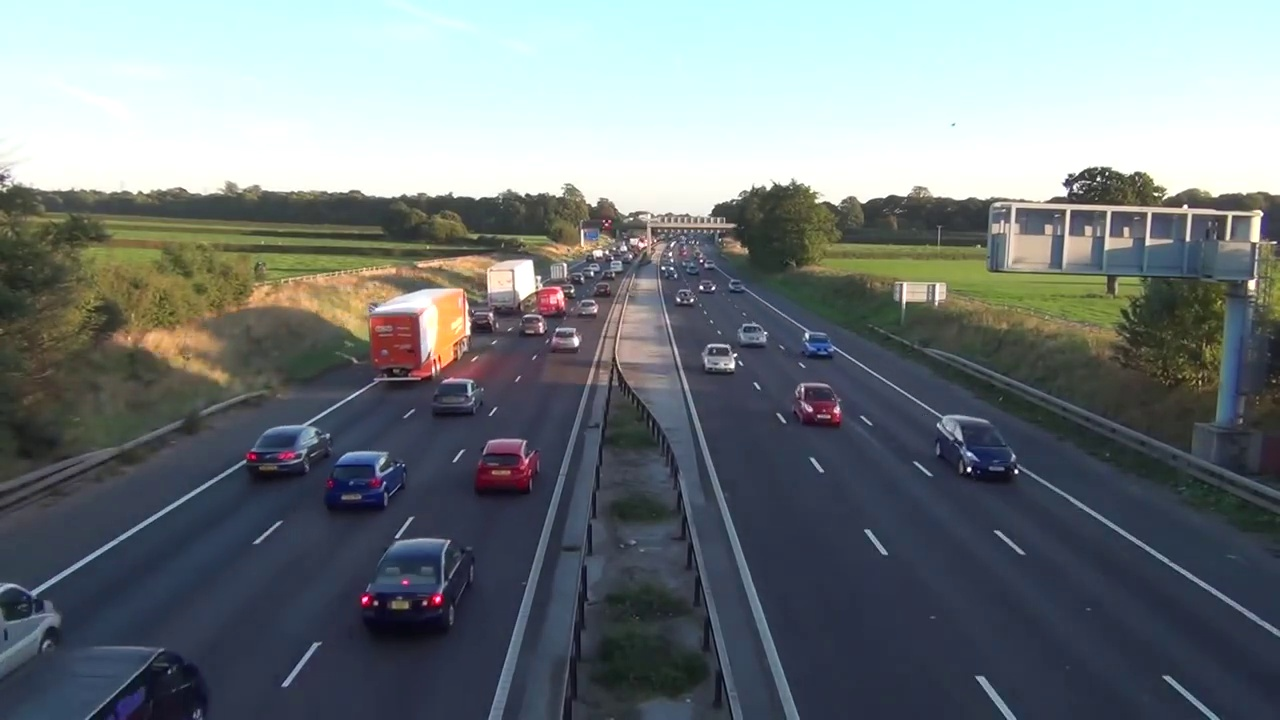bus: (359, 537, 475, 636), (933, 415, 1020, 485), (325, 450, 409, 512), (246, 423, 334, 473), (474, 437, 542, 492), (790, 381, 844, 426), (431, 376, 486, 415), (701, 343, 737, 374), (800, 329, 835, 360), (736, 323, 770, 349), (549, 327, 580, 353), (520, 314, 548, 336), (471, 311, 499, 332), (576, 299, 601, 316), (675, 290, 696, 306), (697, 279, 717, 293), (728, 279, 745, 293)
car: (365, 287, 473, 381), (487, 259, 539, 310)
minibus: (536, 287, 566, 316)
